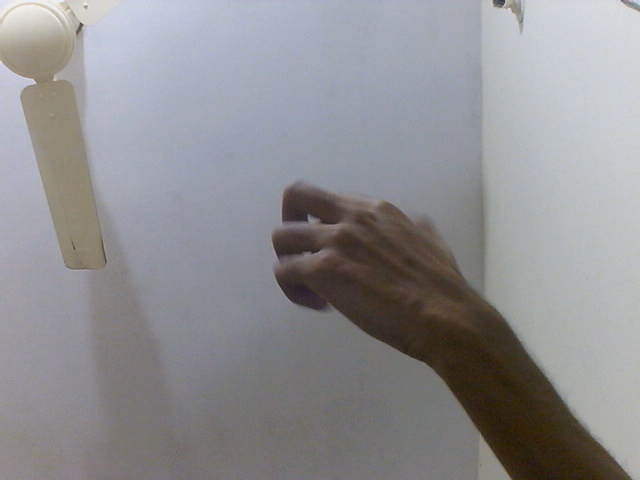hand: (260, 166, 503, 386)
